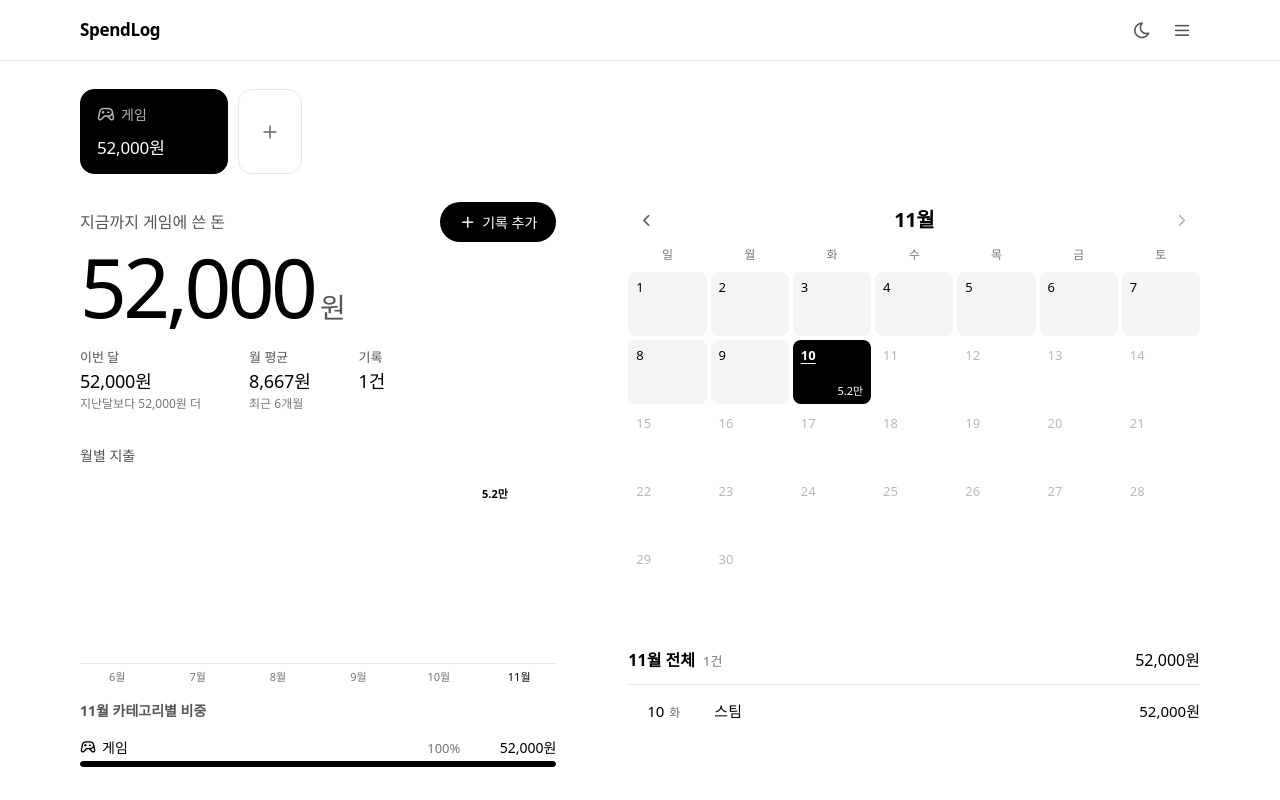
Test: App with browser storage › shows the ledger right away from storage without any server request or logout menu
The width and height of the screenshot is (1280, 800).
Expected: the button with aria-label "스팀 수정" is shown, [620,689,1208,732]
Click the button named "메뉴" at (1182, 30), box [1164,12,1200,48]
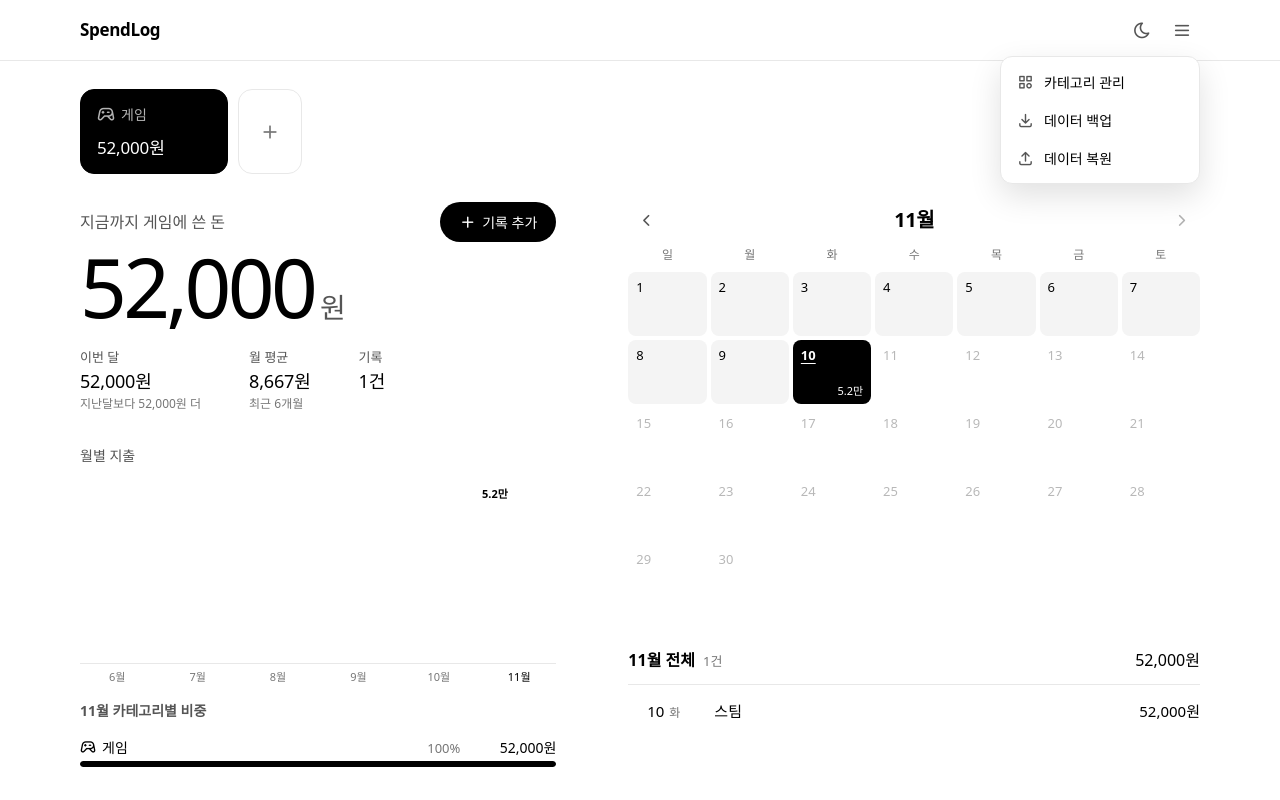
Expected: the menu item "데이터 백업" is shown, [1007,101,1193,139]
